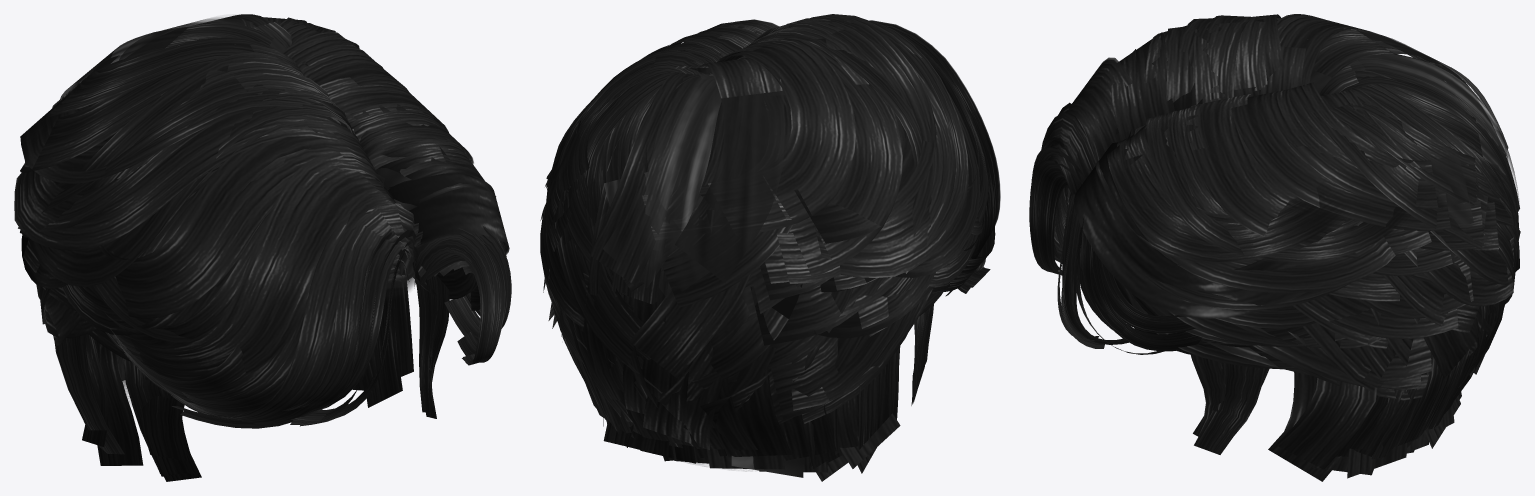
Rendered from oval_wavy_03 SidePart.glb.
The picture shows the model from 3 angles, left to right: view 1: azimuth 30°, elevation 25°; view 2: azimuth 150°, elevation 25°; view 3: azimuth 270°, elevation 25°; orthographic projection. The views are drawn at different scales.
Parts seen in each view (by area): view 1: side part.001, base.001; view 2: side part.001; view 3: side part.001.
Part boxes in pixels (<box>): side part.001: <box>14,14,511,481</box>; base.001: <box>99,270,424,404</box>; side part.001: <box>540,14,1000,481</box>; side part.001: <box>1029,14,1520,481</box>.
Size of the model in its own units: 0.2327 by 0.2376 by 0.2748.
Materials: 2 (2 with a texture image).
